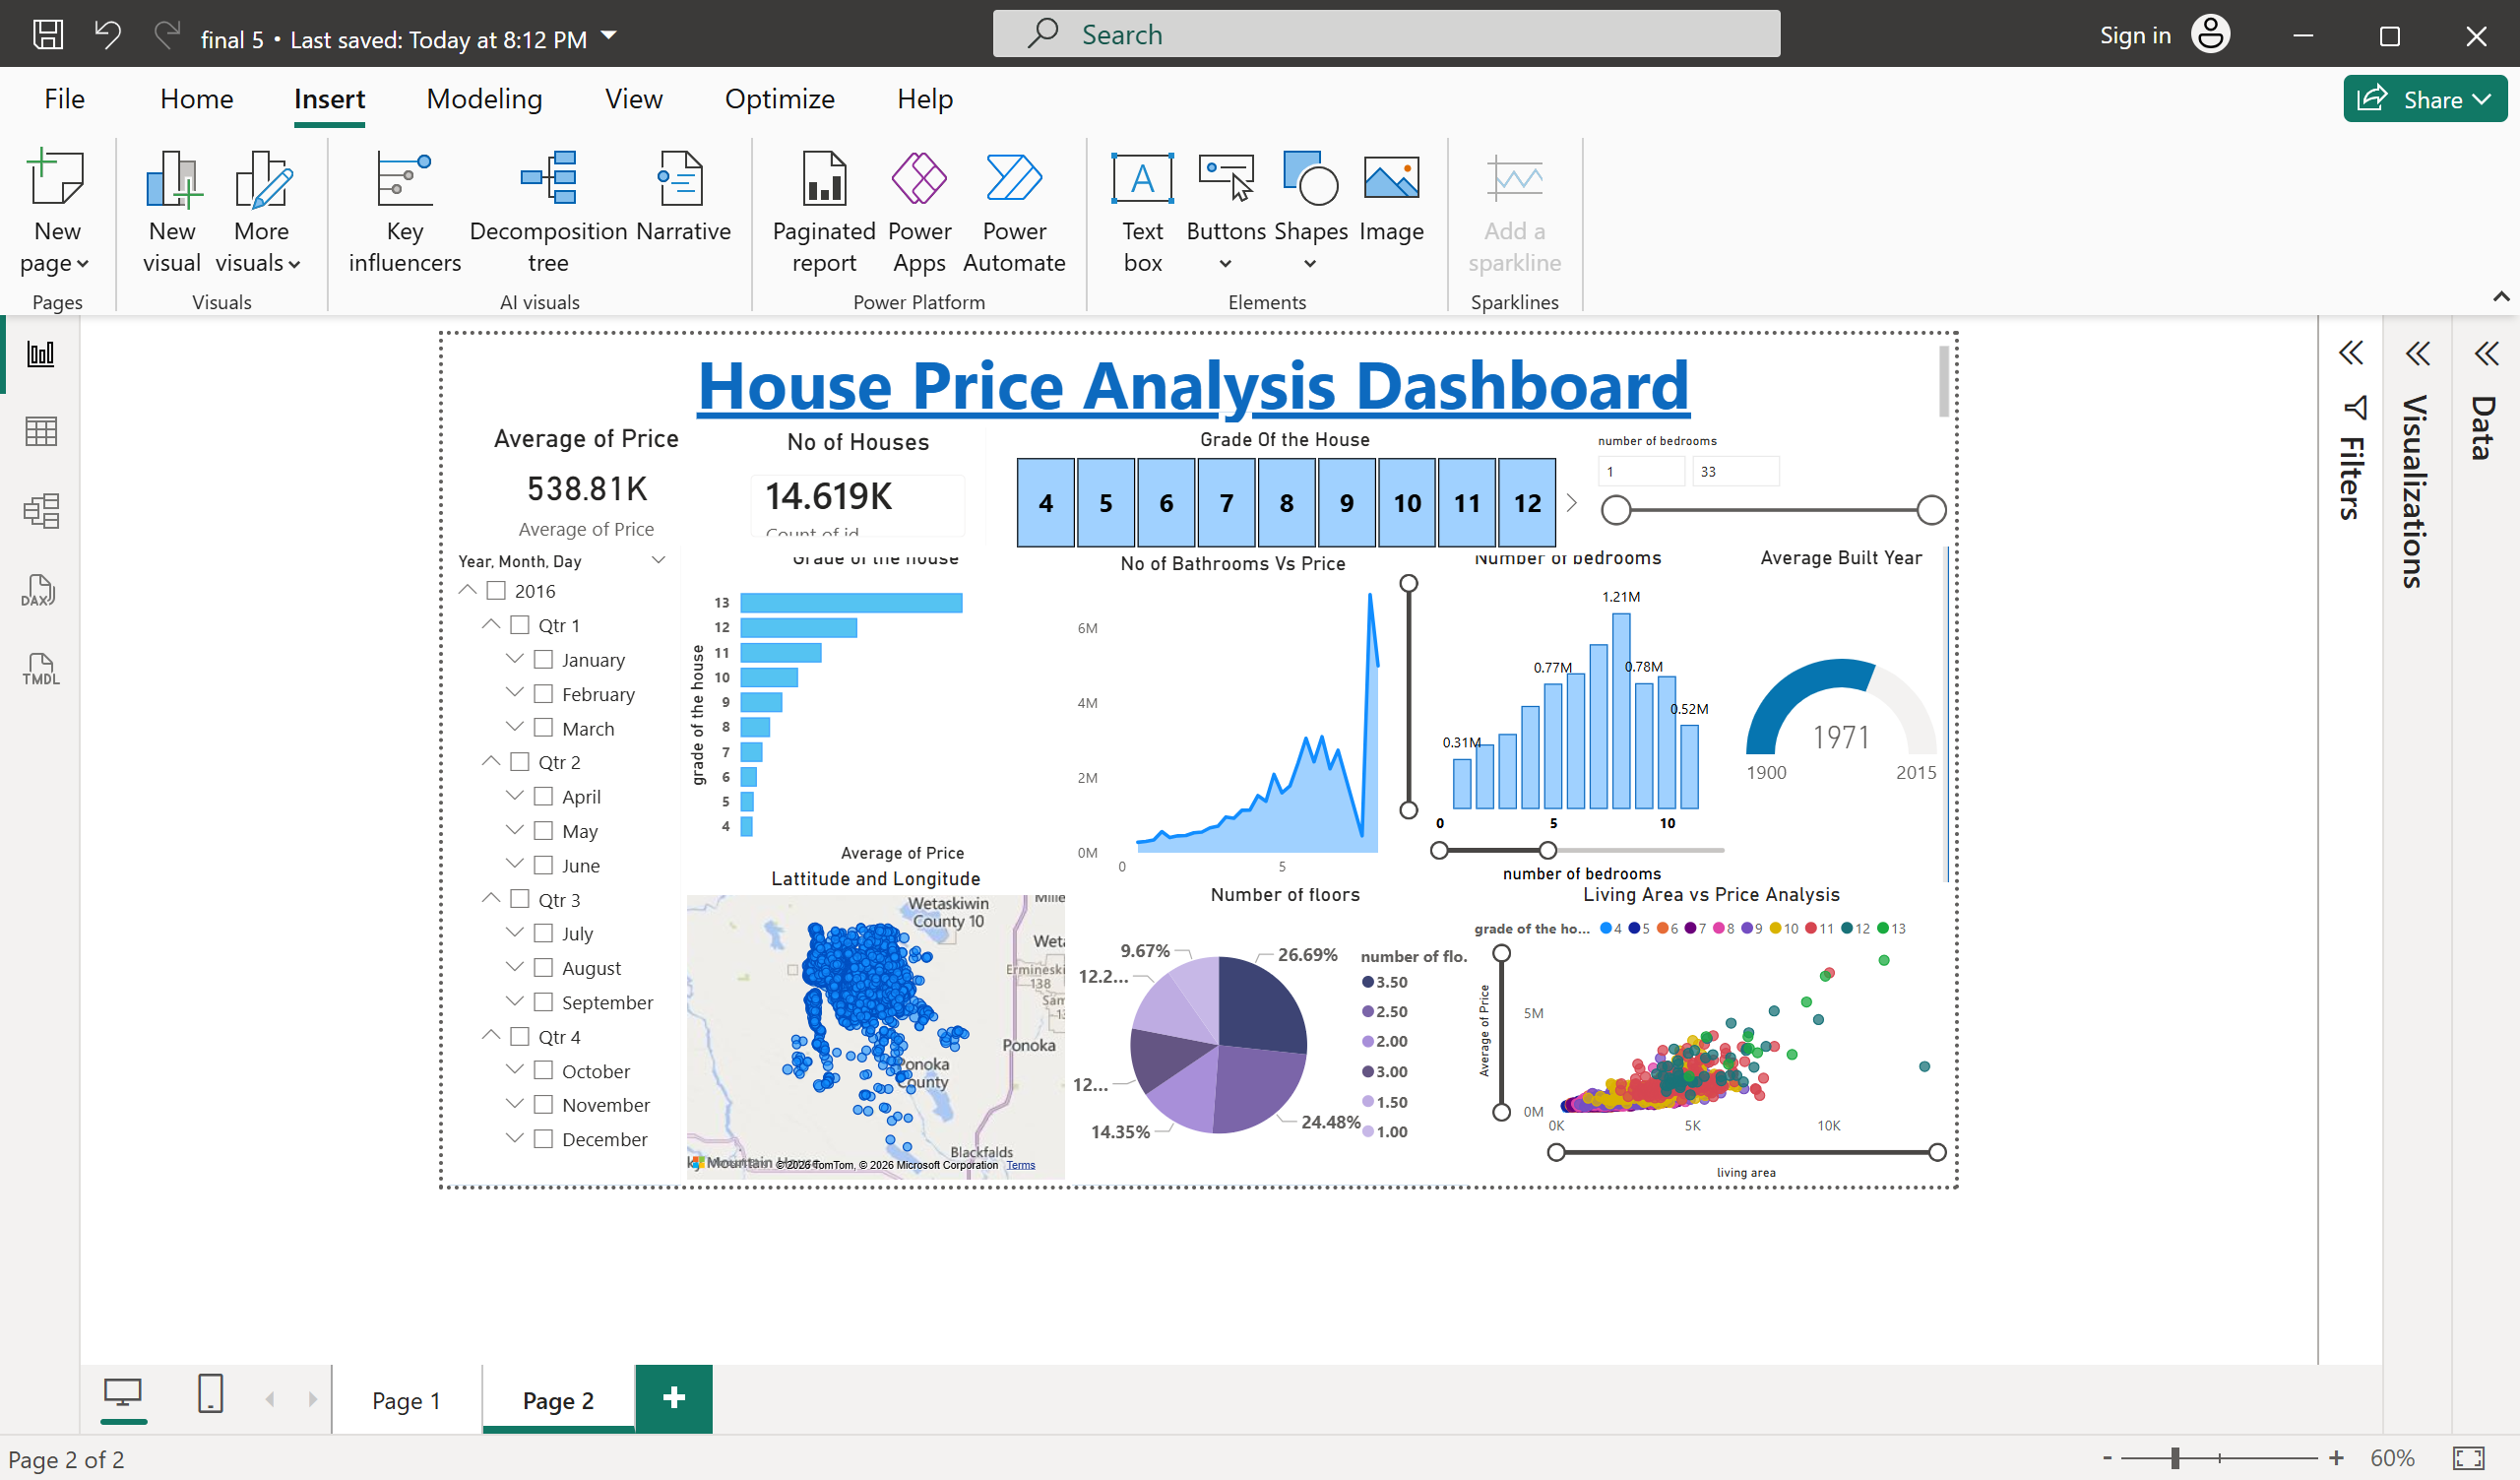

Layout of this report page (visuals, bound fields, positions):
{"tool":"powerbi","page":{"name":"Dashboard","canvas":[1280,720],"ordinal":0},"visuals":[{"type":"shape","box":[5,0,1270,720],"z":0},{"type":"columnChart","title":"Number of bedrooms","fields":{"Category":["Table1.number of bedrooms"],"Y":["Avg(Table1.Price)"]},"box":[806.7,178.3,291.7,290],"z":1000},{"type":"clusteredBarChart","title":"Grade of the house","fields":{"Category":["Table1.grade of the house"],"Y":["Avg(Table1.Price)"]},"box":[201.7,178.3,330,273.3],"z":2000},{"type":"pieChart","title":"Number of floors","fields":{"Y":["Avg(Table1.Price)"],"Category":["Table1.number of floors"]},"box":[531.7,463.3,363.3,256.7],"z":3000},{"type":"scatterChart","title":"Living Area vs Price Analysis","fields":{"Y":["Avg(Table1.Price)"],"X":["Table1.living area"],"Series":["Table1.grade of the house"]},"box":[868.3,463.3,411.7,256.7],"z":4000},{"type":"gauge","title":"Average Built Year","fields":{"Y":["Avg(Table1.Built Year)"],"MinValue":["Min(Table1.Built Year)1"],"MaxValue":["Max(Table1.Built Year)2"],"TargetValue":["CountNonNull(Table1.Built Year)3"]},"box":[1098.3,178.3,171.7,285],"z":5000},{"type":"slicer","fields":{"Values":["Table1.number of bedrooms"]},"box":[965,78.3,316.7,100],"z":6000},{"type":"cardVisual","title":"No of Houses","fields":{"Data":["CountNonNull(Table1.id)"]},"box":[243.3,78.3,216.7,110],"z":7000},{"type":"card","title":"Average of Price","fields":{"Values":["Avg(Table1.Price)"]},"box":[0,75,243.3,103.3],"z":8000},{"type":"areaChart","title":"No of Bathrooms Vs Price","fields":{"Category":["Table1.number of bathrooms"],"Y":["Avg(Table1.Price)"]},"box":[531.7,183.3,275,285],"z":9000},{"type":"map","title":" Lattitude and Longitude","fields":{"X":["Table1.Longitude"],"Y":["Table1.Lattitude"],"Size":["Avg(Table1.Price)"]},"box":[201.7,450,330,270],"z":10000},{"type":"slicer","title":"Grade Of the House","fields":{"Values":["Table1.grade of the house"]},"box":[460,78.3,506.7,108.3],"z":11000},{"type":"slicer","fields":{"Values":["Table1.Date.Variation.Date Hierarchy.Year","Table1.Date.Variation.Date Hierarchy.Quarter","Table1.Date.Variation.Date Hierarchy.Month","Table1.Date.Variation.Date Hierarchy.Day"]},"box":[0,178.3,201.7,541.7],"z":12000},{"type":"textbox","box":[0,0,1280,78.3],"z":13000}]}

Visuals, with their boxes on the page's 1280x720 design canvas (x1, y1, x2, y2). These are canvas units, not pixel positions in the 2520x1480 screenshot, which may show the page scaled, cropped or inside an application window:
shape: 5:0:1275:720
"Number of bedrooms" columnChart: 807:178:1098:468
"Grade of the house" clusteredBarChart: 202:178:532:452
"Number of floors" pieChart: 532:463:895:720
"Living Area vs Price Analysis" scatterChart: 868:463:1280:720
"Average Built Year" gauge: 1098:178:1270:463
slicer - Table1.number of bedrooms: 965:78:1282:178
"No of Houses" cardVisual: 243:78:460:188
"Average of Price" card: 0:75:243:178
"No of Bathrooms Vs Price" areaChart: 532:183:807:468
" Lattitude and Longitude" map: 202:450:532:720
"Grade Of the House" slicer: 460:78:967:187
slicer - Table1.Date.Variation.Date Hierarchy.Year x Table1.Date.Variation.Date Hierarchy.Quarter: 0:178:202:720
textbox: 0:0:1280:78
